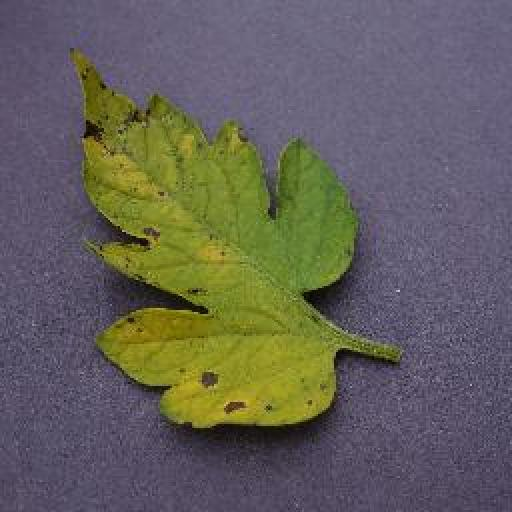disease_tomato: (66, 38, 356, 430)
